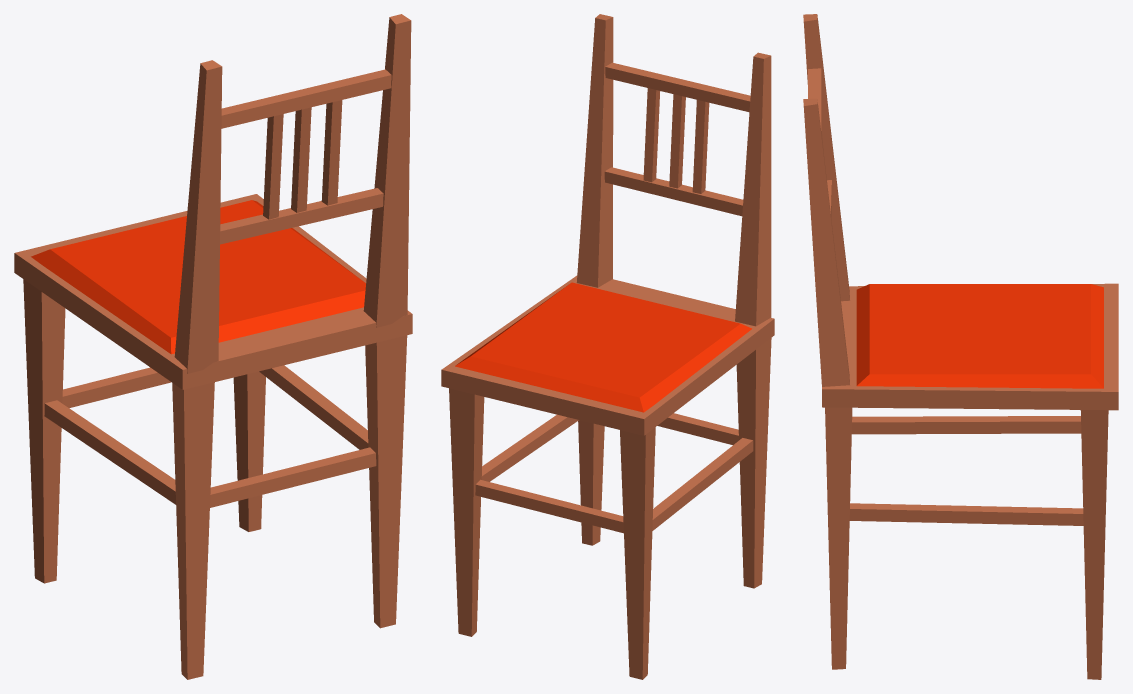
File: Chair1.DAE
3 renders of one model, left to right at view 1: azimuth 30°, elevation 25°; view 2: azimuth 150°, elevation 25°; view 3: azimuth 270°, elevation 25°, orthographic. The views are drawn at different scales.
Parts seen in each view (by area): view 1: Chair; view 2: Chair; view 3: Chair.
Boxes of the visible parts, x1,y1,x2,y2 form: Chair: (14,14,412,679); Chair: (441,14,774,679); Chair: (803,14,1118,679).
Size of the model in its own units: 0.5554 by 1.37 by 0.6836.
